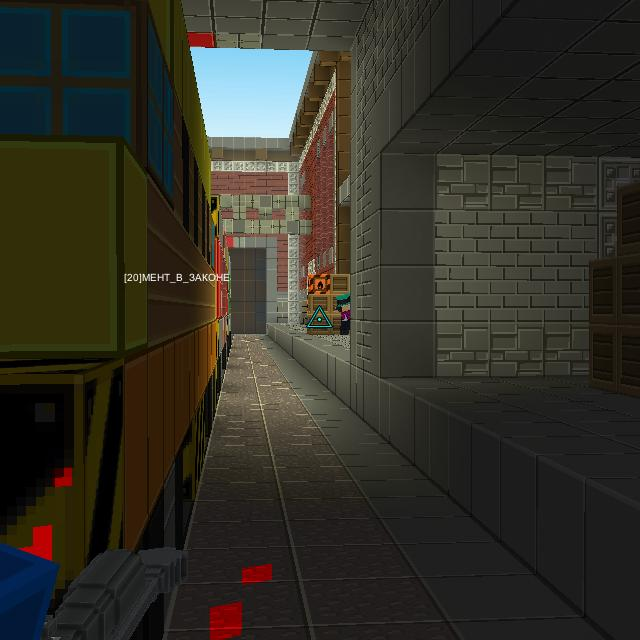enemy: (337, 295, 350, 335)
